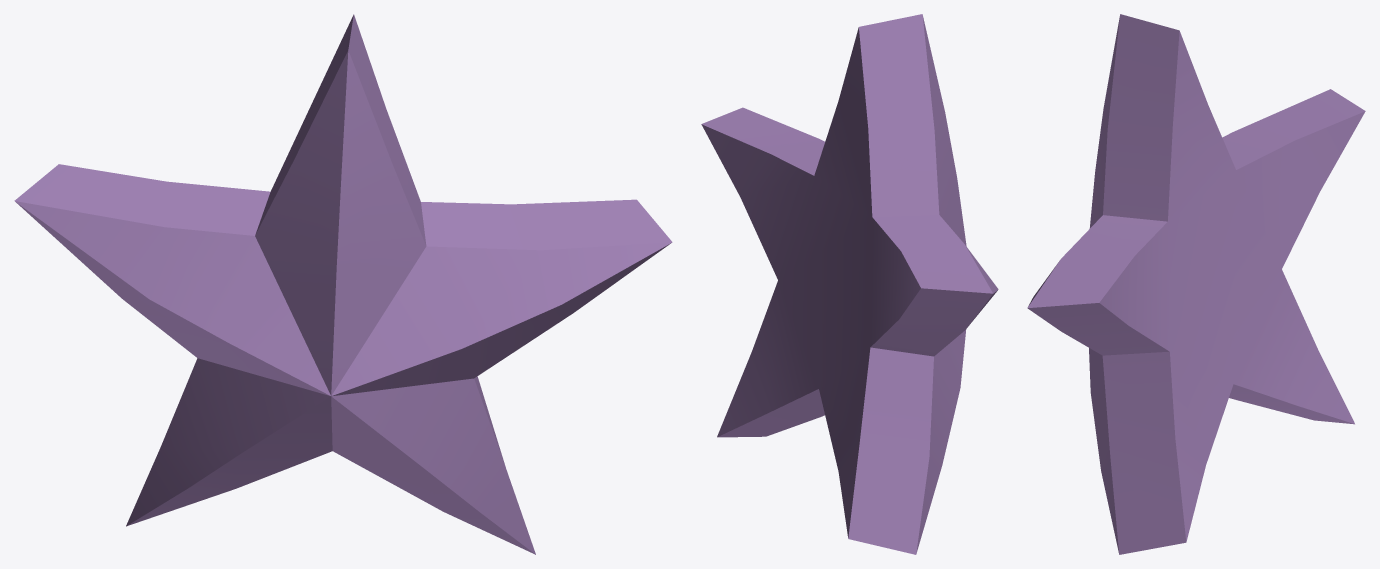
Rendered from BL3_Frame_Star.001 3.glb.
3 views of the same model, side by side, from view 1: azimuth 30°, elevation 25°; view 2: azimuth 150°, elevation 25°; view 3: azimuth 270°, elevation 25° (orthographic). The views are drawn at different scales.
Visible parts, largest first — view 1: BL3_Frame_Star.001; view 2: BL3_Frame_Star.001; view 3: BL3_Frame_Star.001.
Boxes of the visible parts, bbox=[...] form: BL3_Frame_Star.001: bbox=[14, 14, 672, 554]; BL3_Frame_Star.001: bbox=[701, 14, 998, 554]; BL3_Frame_Star.001: bbox=[1027, 14, 1365, 554].
Bounding box in the file's own units: 0.3739 × 0.4053 × 0.2677.
